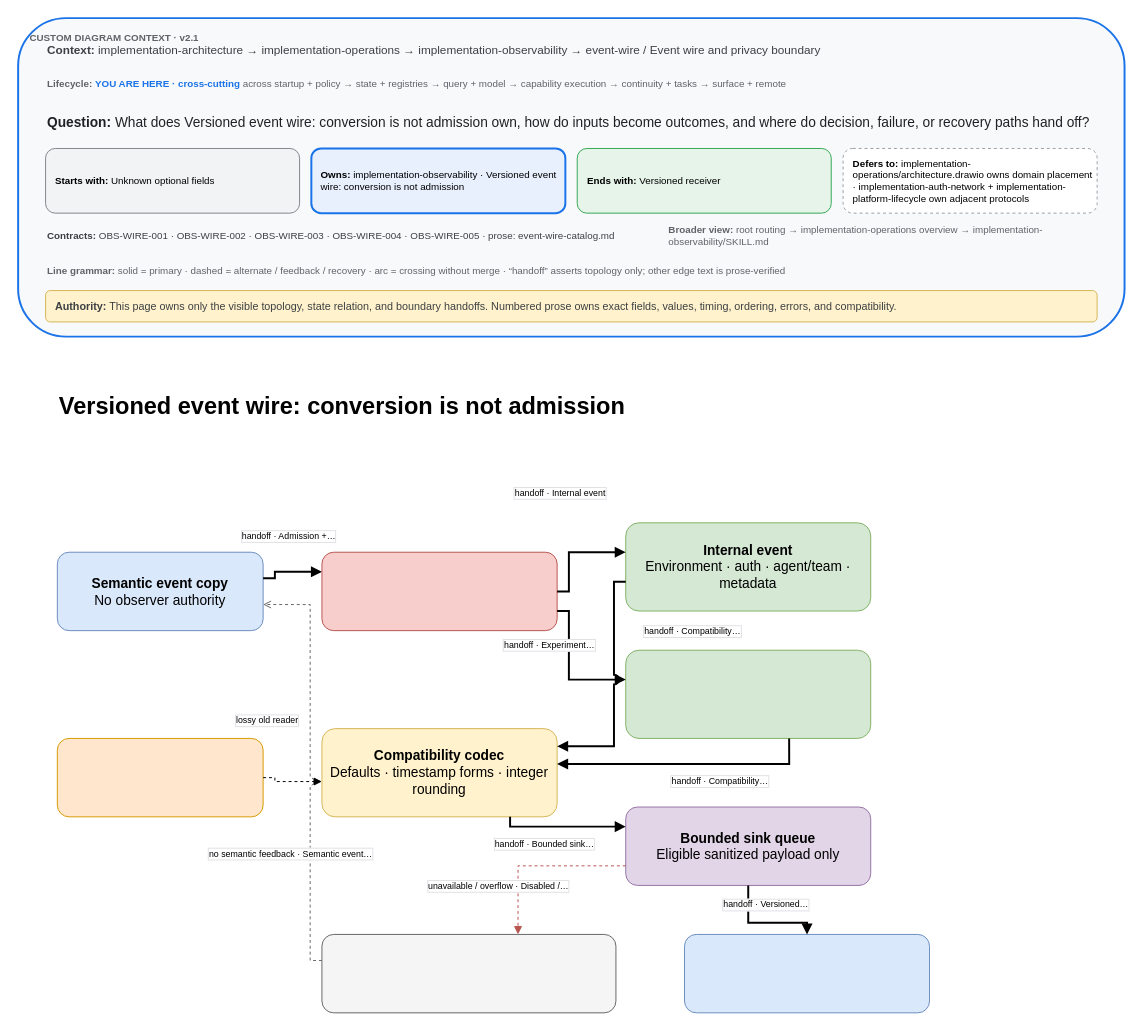
This 1142x1030 diagram has some shape labels left out. The shapes that lost their labels are listed below. From the top down, each one's centre as x and y in pixels, then its label:
At (x=439, y=591): "Admission + privacy Type · range · redaction · cardinality".
At (x=748, y=693): "Experiment exposure Experiment · variation · identities · metadata".
At (x=159, y=777): "Unknown optional fields Ignored and not round-tripped".
At (x=468, y=973): "Disabled / failed sink Drop or retry evidence; semantic result unchanged".
At (x=807, y=973): "Versioned receiver Server fields may be injected downstream".
